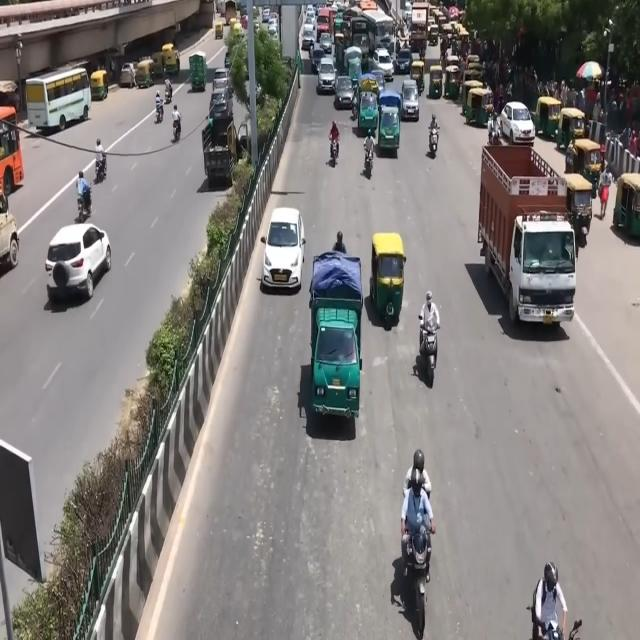auto: (370, 232, 405, 324), (562, 172, 594, 241), (568, 137, 603, 200), (613, 172, 640, 240), (558, 105, 586, 151), (534, 94, 562, 140), (467, 85, 492, 128), (161, 42, 180, 76), (444, 64, 461, 100), (428, 64, 444, 100), (135, 59, 154, 89), (410, 58, 425, 95), (90, 70, 108, 100), (150, 51, 166, 79), (232, 20, 242, 42), (214, 19, 224, 40)
bike-auto: (400, 501, 434, 638), (418, 316, 440, 388), (76, 170, 92, 216), (363, 128, 375, 173), (329, 119, 340, 159), (95, 139, 106, 178), (429, 112, 439, 150), (332, 232, 346, 254), (172, 105, 181, 139), (155, 90, 164, 120), (165, 77, 172, 101)
